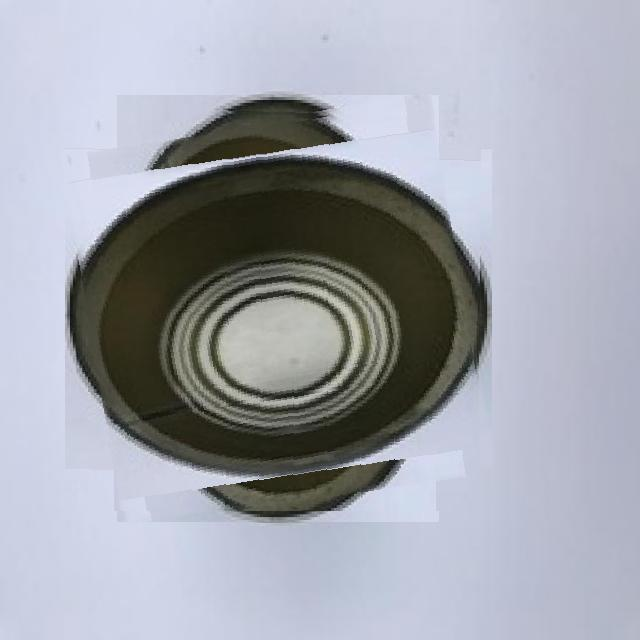recyclable: (76, 106, 481, 511)
